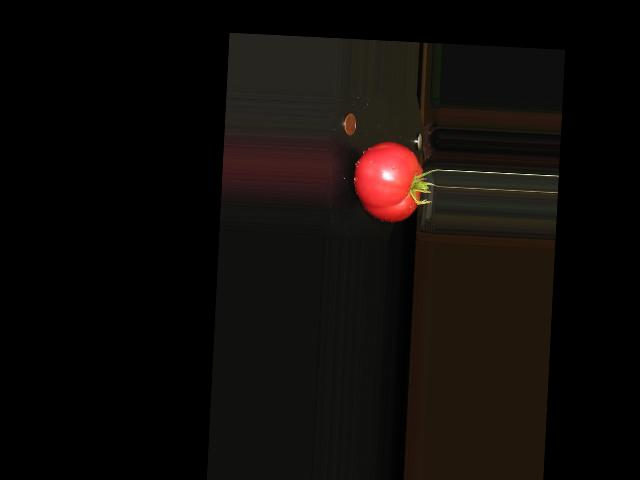tomato: (351, 140, 424, 224)
